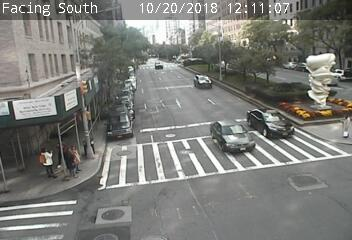car: (210, 120, 255, 152), (246, 108, 294, 138), (194, 74, 211, 89), (154, 61, 163, 68)
